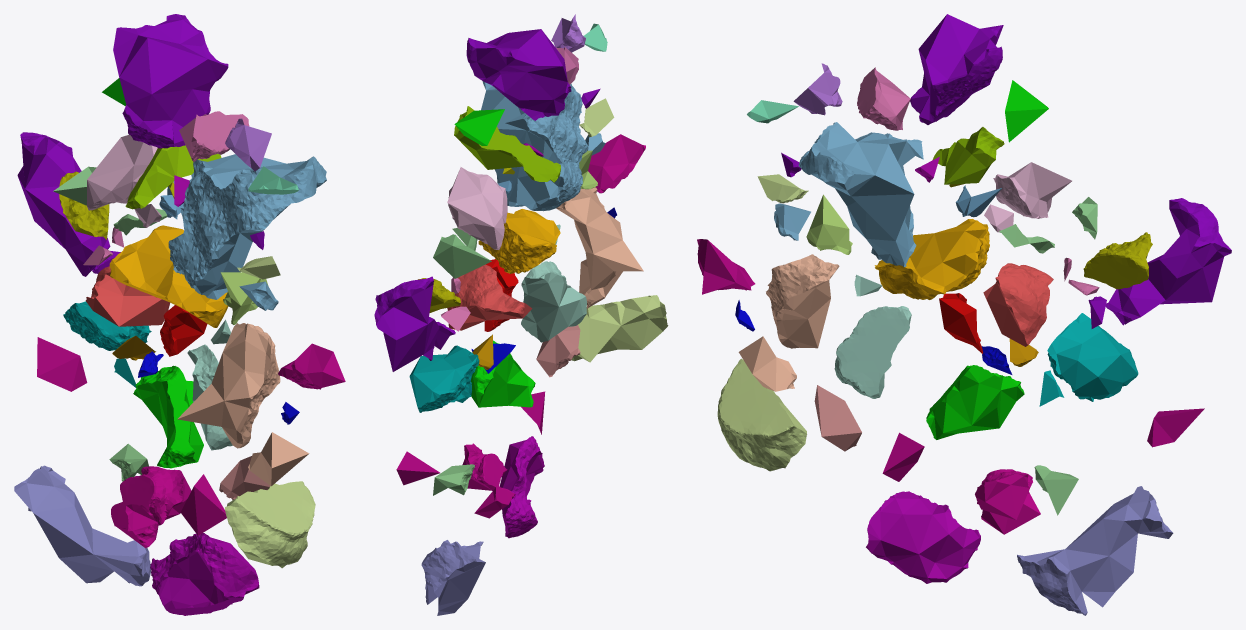
File: fractured_73_55pcs_transformed.glb
3 renders of one model, left to right at view 1: azimuth 30°, elevation 25°; view 2: azimuth 150°, elevation 25°; view 3: azimuth 270°, elevation 25°, orthographic. The views are drawn at different scales.
Parts seen in each view (by area): view 1: piece_2.obj, piece_18.obj, piece_26.obj, piece_7.obj, piece_12.obj, piece_5.obj, piece_16.obj, piece_0.obj, piece_15.obj, piece_8.obj, piece_6.obj, piece_1.obj (+20 smaller); view 2: piece_2.obj, piece_18.obj, piece_16.obj, piece_5.obj, piece_7.obj, piece_4.obj, piece_6.obj, piece_26.obj, piece_0.obj, piece_13.obj, piece_12.obj, piece_1.obj (+20 smaller); view 3: piece_2.obj, piece_26.obj, piece_16.obj, piece_12.obj, piece_18.obj, piece_5.obj, piece_0.obj, piece_13.obj, piece_7.obj, piece_8.obj, piece_4.obj, piece_1.obj (+19 smaller).
Part boxes in pixels (bbox=[...]): piece_2.obj: bbox=[168, 154, 326, 299]; piece_18.obj: bbox=[113, 14, 228, 148]; piece_26.obj: bbox=[14, 465, 150, 586]; piece_7.obj: bbox=[177, 323, 280, 448]; piece_12.obj: bbox=[150, 533, 259, 615]; piece_5.obj: bbox=[225, 481, 315, 568]; piece_16.obj: bbox=[17, 132, 110, 276]; piece_0.obj: bbox=[109, 225, 228, 327]; piece_15.obj: bbox=[111, 466, 191, 548]; piece_8.obj: bbox=[133, 365, 203, 468]; piece_6.obj: bbox=[87, 134, 157, 210]; piece_1.obj: bbox=[85, 266, 169, 326]; piece_2.obj: bbox=[481, 81, 588, 211]; piece_18.obj: bbox=[466, 29, 571, 120]; piece_16.obj: bbox=[374, 276, 439, 371]; piece_5.obj: bbox=[571, 295, 668, 362]; piece_7.obj: bbox=[556, 187, 643, 290]; piece_4.obj: bbox=[521, 261, 586, 342]; piece_6.obj: bbox=[447, 167, 507, 249]; piece_26.obj: bbox=[421, 540, 485, 615]; piece_0.obj: bbox=[478, 209, 560, 273]; piece_13.obj: bbox=[409, 345, 479, 412]; piece_12.obj: bbox=[500, 436, 544, 538]; piece_1.obj: bbox=[447, 264, 532, 330]; piece_2.obj: bbox=[798, 122, 923, 267]; piece_26.obj: bbox=[1017, 486, 1173, 615]; piece_16.obj: bbox=[1105, 198, 1231, 325]; piece_12.obj: bbox=[866, 491, 980, 583]; piece_18.obj: bbox=[910, 14, 1003, 124]; piece_5.obj: bbox=[717, 358, 806, 471]; piece_0.obj: bbox=[874, 219, 989, 299]; piece_13.obj: bbox=[1047, 313, 1138, 401]; piece_7.obj: bbox=[766, 254, 839, 348]; piece_8.obj: bbox=[926, 365, 1024, 439]; piece_4.obj: bbox=[834, 306, 911, 398]; piece_1.obj: bbox=[983, 263, 1053, 346].
Bounding box in the file's own units: 0.7842 × 2.78 × 2.33.
